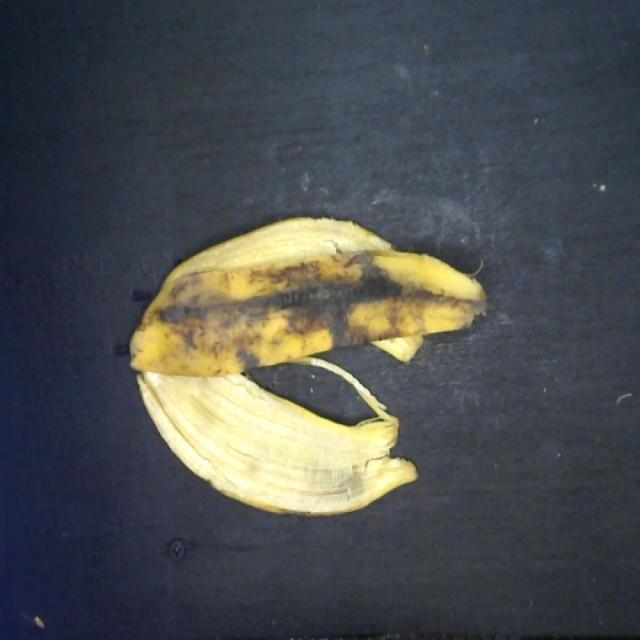biodegradable: (122, 209, 490, 524)
